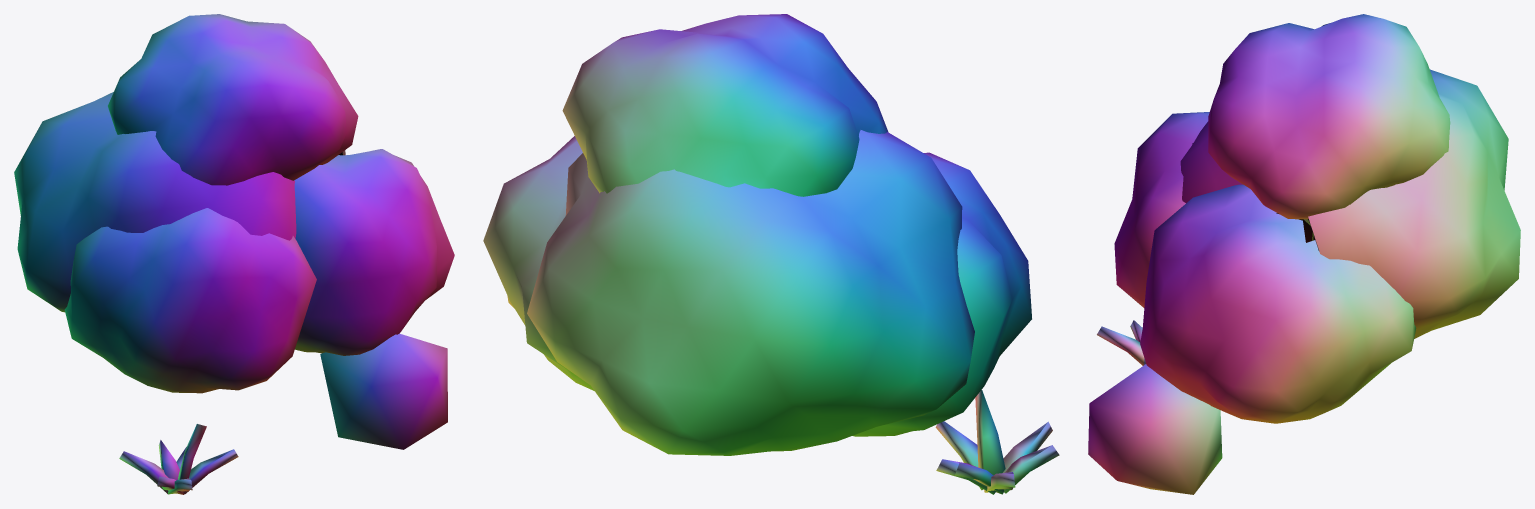
The model's file is SM_Outcrop_Plains_V5.fbx.
The picture shows the model from 3 angles, left to right: view 1: azimuth 30°, elevation 25°; view 2: azimuth 150°, elevation 25°; view 3: azimuth 270°, elevation 25°; orthographic projection. The views are drawn at different scales.
Visible parts, largest first — view 1: SM_Outcrop_Plains_V5; view 2: SM_Outcrop_Plains_V5; view 3: SM_Outcrop_Plains_V5.
Part boxes in pixels (left/top/right/bottom): SM_Outcrop_Plains_V5: left=14, top=14, right=454, bottom=494; SM_Outcrop_Plains_V5: left=483, top=14, right=1059, bottom=494; SM_Outcrop_Plains_V5: left=1088, top=14, right=1520, bottom=494.
Bounding box in the file's own units: 1.49 × 1.4 × 1.32.
